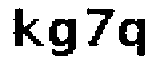7: (85, 6, 116, 48)
g: (46, 8, 86, 60)
k: (10, 5, 43, 51)
q: (117, 17, 149, 59)
